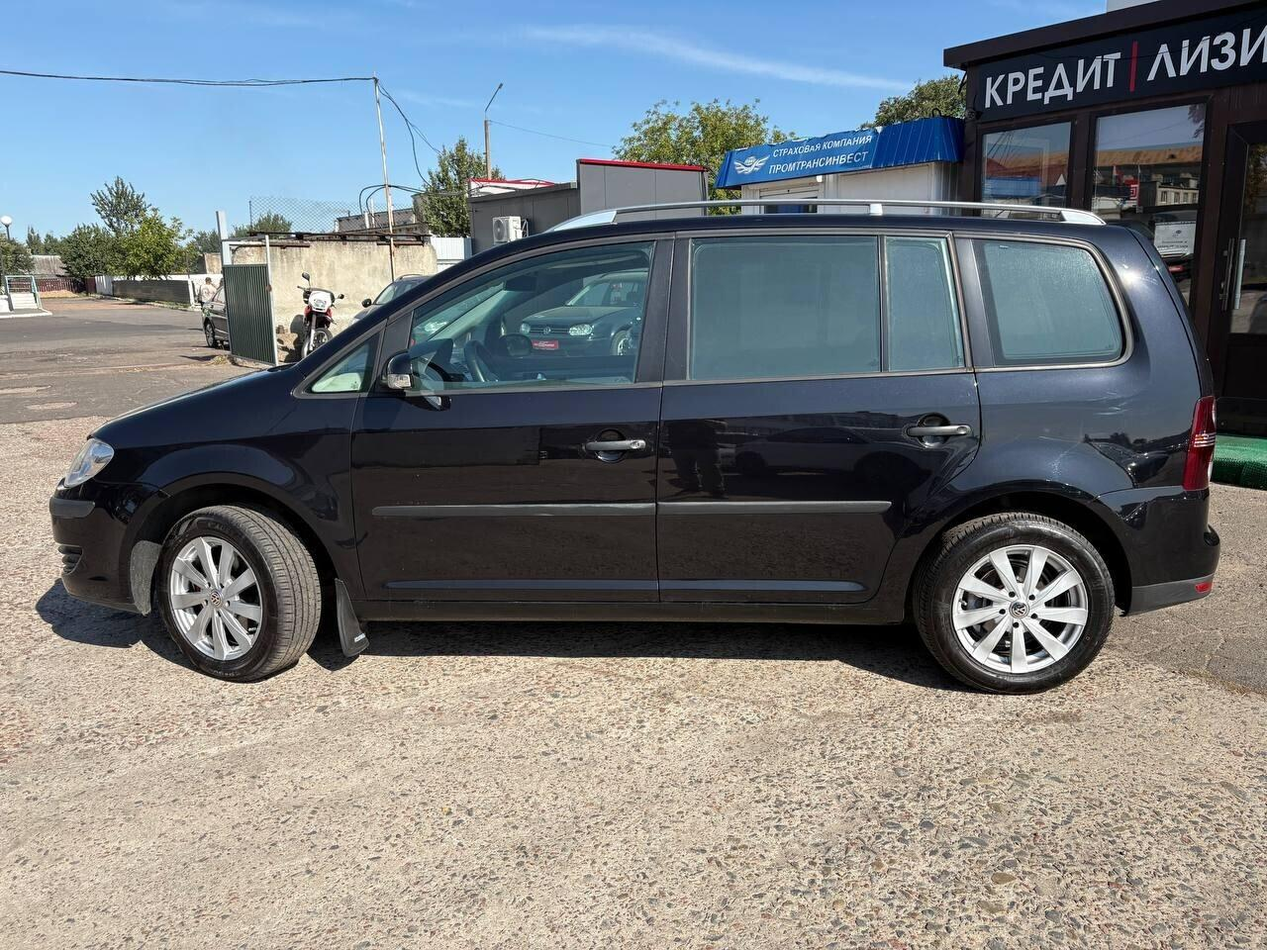Touran_2006-2010: (48, 198, 1225, 693)
